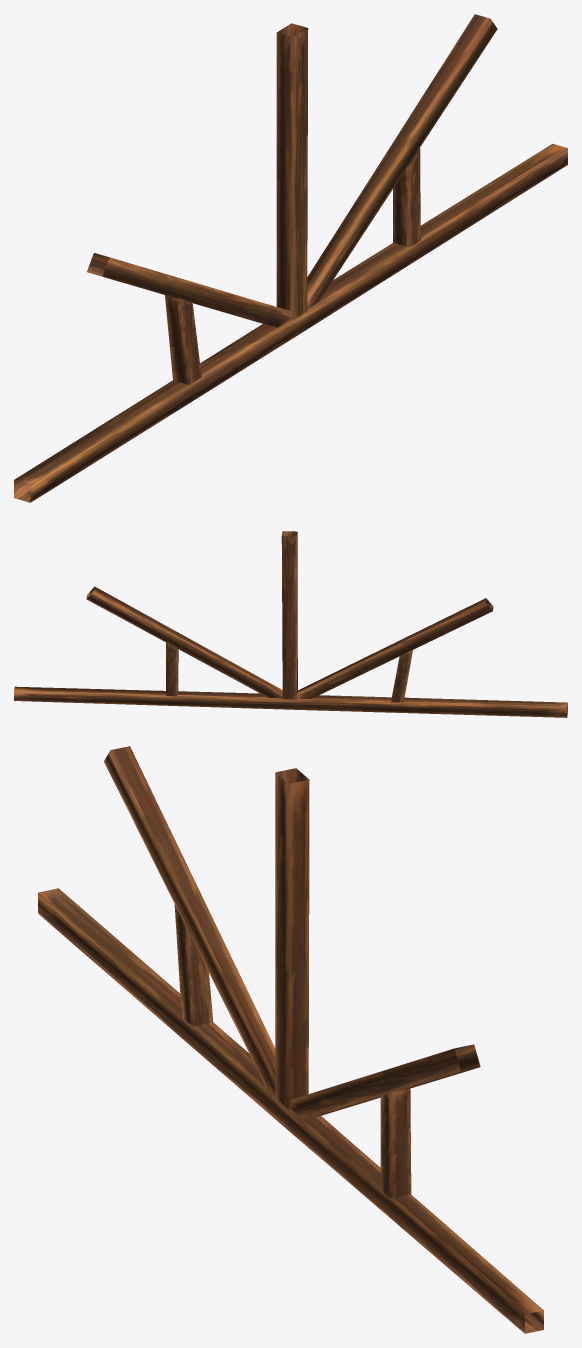
Rendered from SWORDLIGHT20_JAILCEILBRACKET20.fbx.
3 views of the same model, one above another, from view 1: azimuth 30°, elevation 25°; view 2: azimuth 150°, elevation 25°; view 3: azimuth 270°, elevation 25° (orthographic). The views are drawn at different scales.
Visible parts, largest first — view 1: SWORDLIGHT20_JAILCEILBRACKET20; view 2: SWORDLIGHT20_JAILCEILBRACKET20; view 3: SWORDLIGHT20_JAILCEILBRACKET20.
Boxes of the visible parts, x1=… form: SWORDLIGHT20_JAILCEILBRACKET20: x1=14, y1=14, x2=567, y2=502; SWORDLIGHT20_JAILCEILBRACKET20: x1=14, y1=531, x2=567, y2=717; SWORDLIGHT20_JAILCEILBRACKET20: x1=38, y1=746, x2=543, y2=1333.
Bounding box in the file's own units: 130603 × 49666 × 65676.
Materials: 1 (1 with a texture image).
